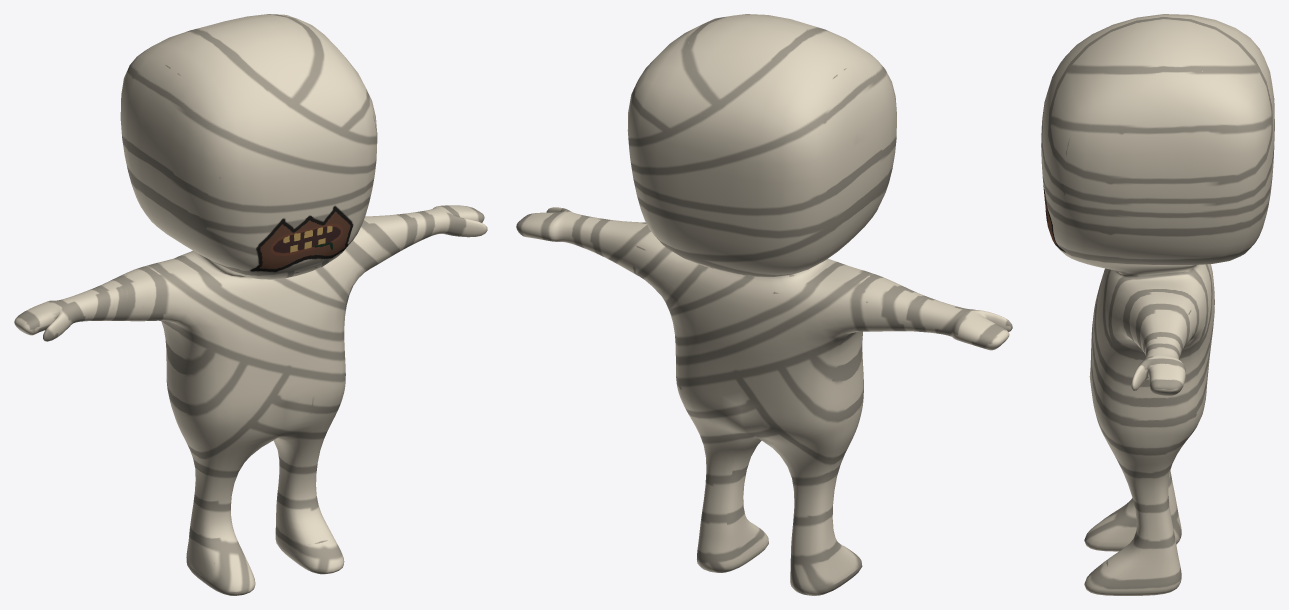
The model's file is Momia.obj.
3 views of the same model, side by side, from view 1: azimuth 30°, elevation 25°; view 2: azimuth 150°, elevation 25°; view 3: azimuth 270°, elevation 25° (orthographic). The views are drawn at different scales.
Parts seen in each view (by area): view 1: Momia.001; view 2: Momia.001; view 3: Momia.001.
Boxes of the visible parts, left/top/right/bottom form: Momia.001: left=14, top=14, right=487, bottom=595; Momia.001: left=516, top=14, right=1012, bottom=595; Momia.001: left=1041, top=14, right=1274, bottom=595.
Size of the model in its own units: 3.14 by 3.44 by 1.36.
1 material, 1 textured.
